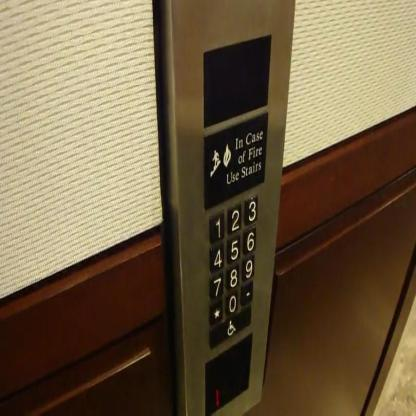-: (241, 280, 252, 306)
0: (226, 290, 238, 316)
1: (209, 209, 224, 241)
2: (227, 201, 241, 234)
3: (244, 194, 257, 226)
4: (209, 241, 224, 271)
5: (226, 234, 240, 263)
6: (243, 224, 255, 254)
7: (210, 271, 223, 300)
8: (226, 263, 239, 290)
9: (242, 253, 254, 281)
led: (203, 34, 271, 127), (204, 333, 252, 415)
s: (209, 300, 223, 324)
